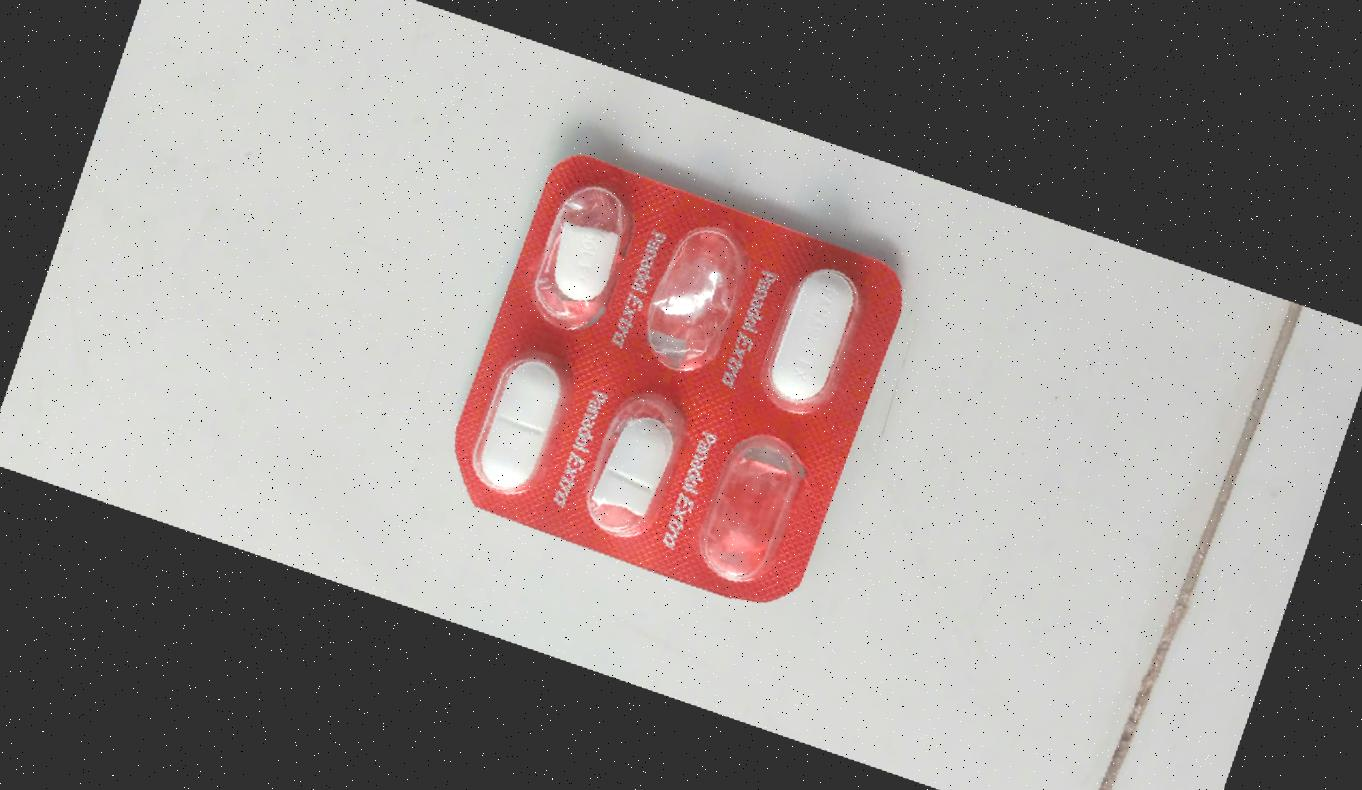Empty: (613, 199, 762, 402), (676, 418, 825, 621)
Full: (448, 328, 598, 531), (740, 229, 889, 432)
Partial: (500, 156, 650, 359), (557, 355, 706, 558)
